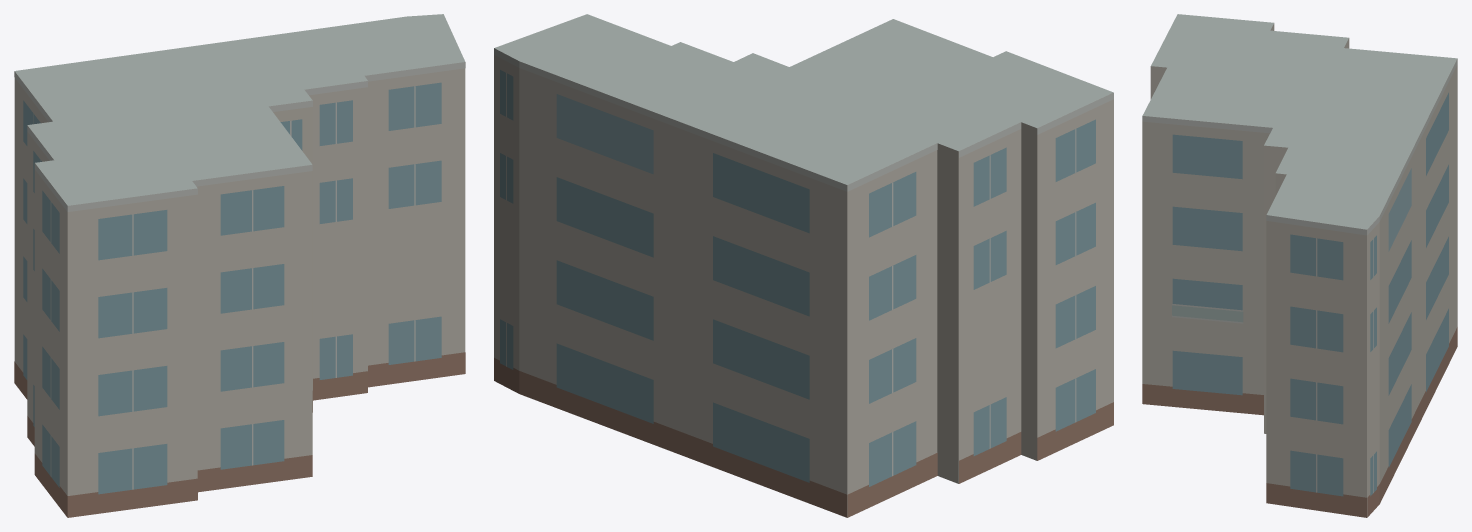
The model's file is survey-upis-33013696.glb.
3 renders of one model, left to right at view 1: azimuth 30°, elevation 25°; view 2: azimuth 150°, elevation 25°; view 3: azimuth 270°, elevation 25°, orthographic. The views are drawn at different scales.
Visible parts, largest first — view 1: survey-upis-33013696.tmp; view 2: survey-upis-33013696.tmp; view 3: survey-upis-33013696.tmp.
Boxes of the visible parts, box(x1,y1,x2,y2) form: survey-upis-33013696.tmp: box(14, 14, 465, 517); survey-upis-33013696.tmp: box(494, 14, 1113, 517); survey-upis-33013696.tmp: box(1142, 14, 1457, 517).
Bounding box in the file's own units: 19.47 × 12.12 × 12.02.
